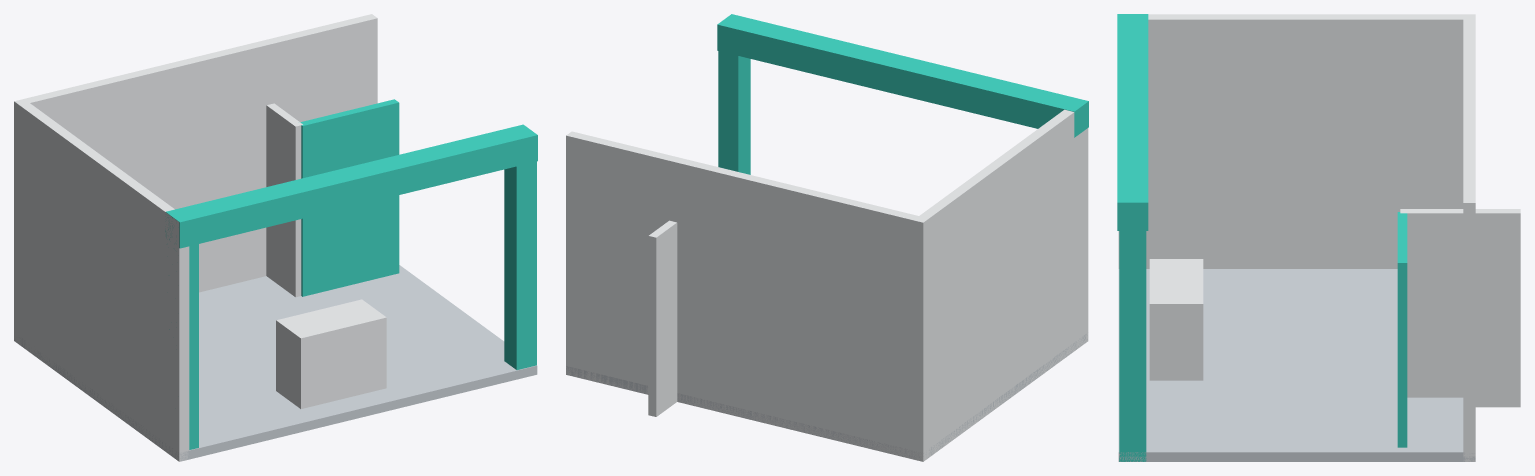
The picture shows the model from 3 angles, left to right: view 1: azimuth 30°, elevation 25°; view 2: azimuth 150°, elevation 25°; view 3: azimuth 270°, elevation 25°; orthographic projection. The views are drawn at different scales.
Parts seen in each view (by area): view 1: Exhibition Booth Concept; view 2: Exhibition Booth Concept; view 3: Exhibition Booth Concept.
Boxes of the visible parts, box(x1,y1,x2,y2) form: Exhibition Booth Concept: box(14, 14, 537, 461); Exhibition Booth Concept: box(566, 14, 1088, 461); Exhibition Booth Concept: box(1117, 14, 1520, 461).
Size of the model in its own units: 5 by 3.2 by 4.52.
